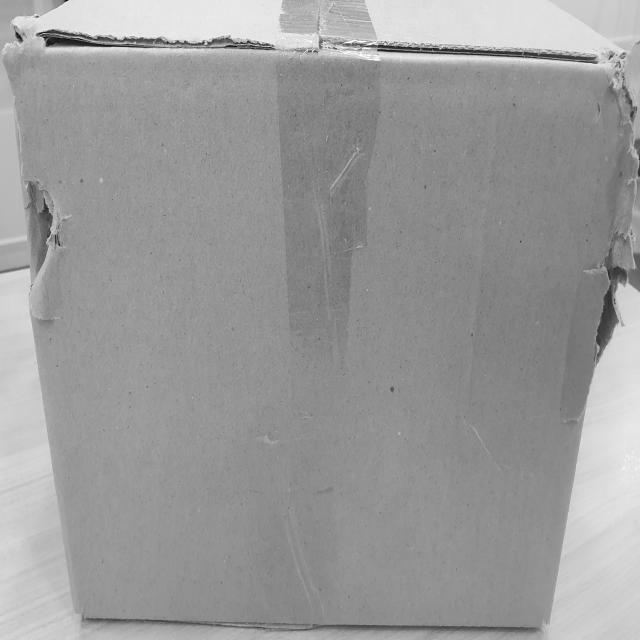hole: (20, 163, 72, 331), (589, 220, 632, 364)
